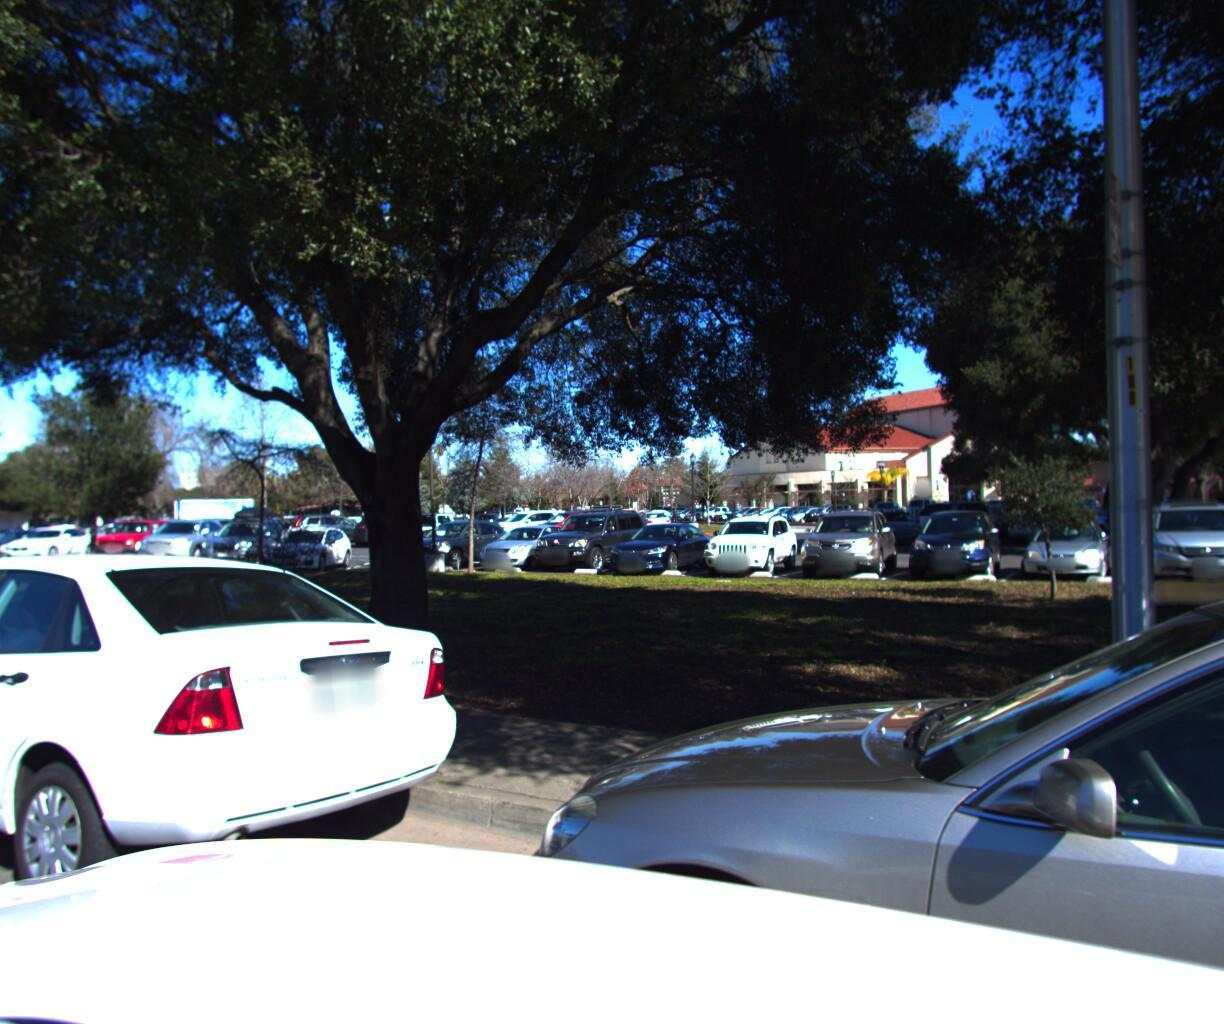car: (408, 534, 1224, 1024), (0, 542, 481, 1009)
